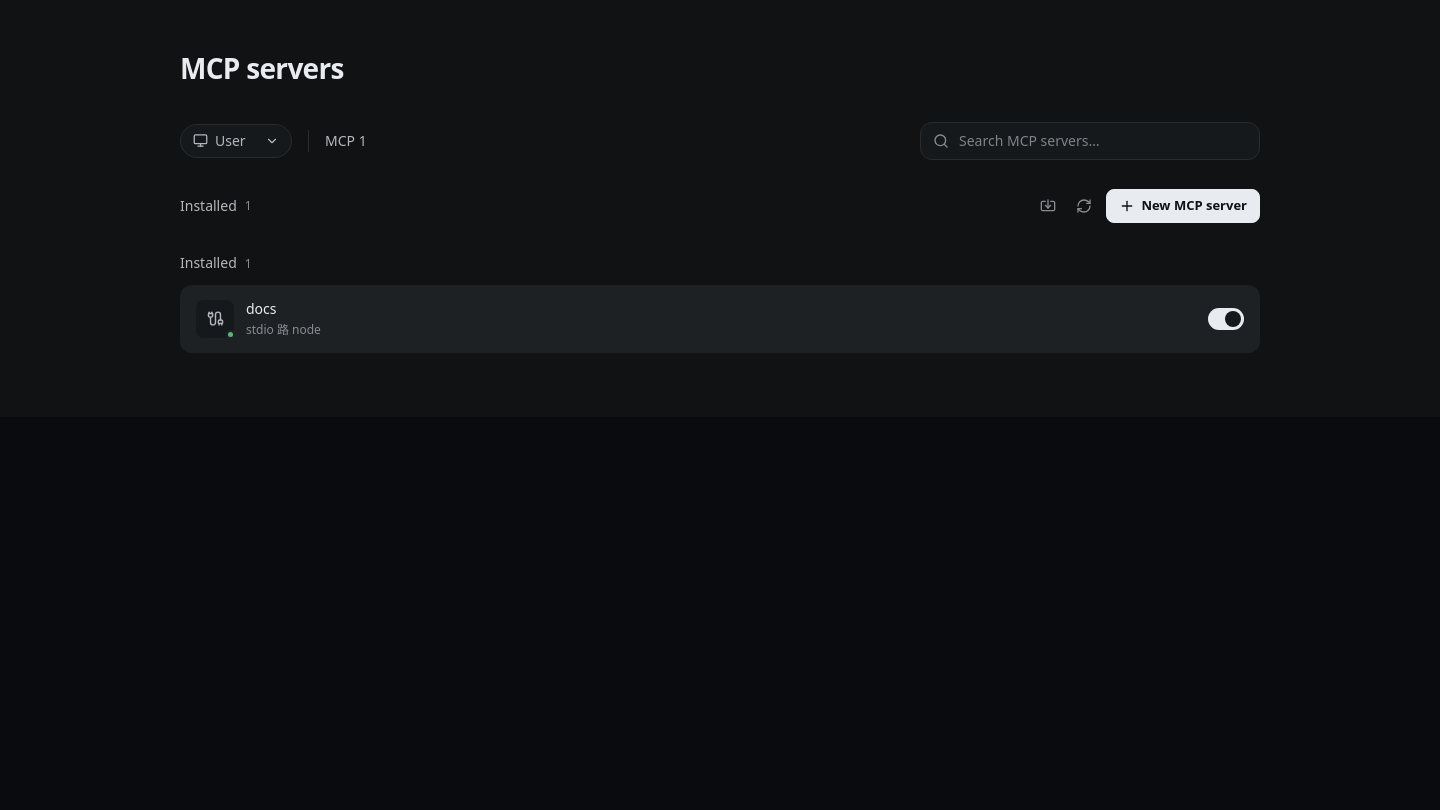
Test: McpManager › blocks invalid command arguments instead of saving the previous arguments
Click the button with class "mcp-server-main" at (215, 319), box [180,285,1208,353]
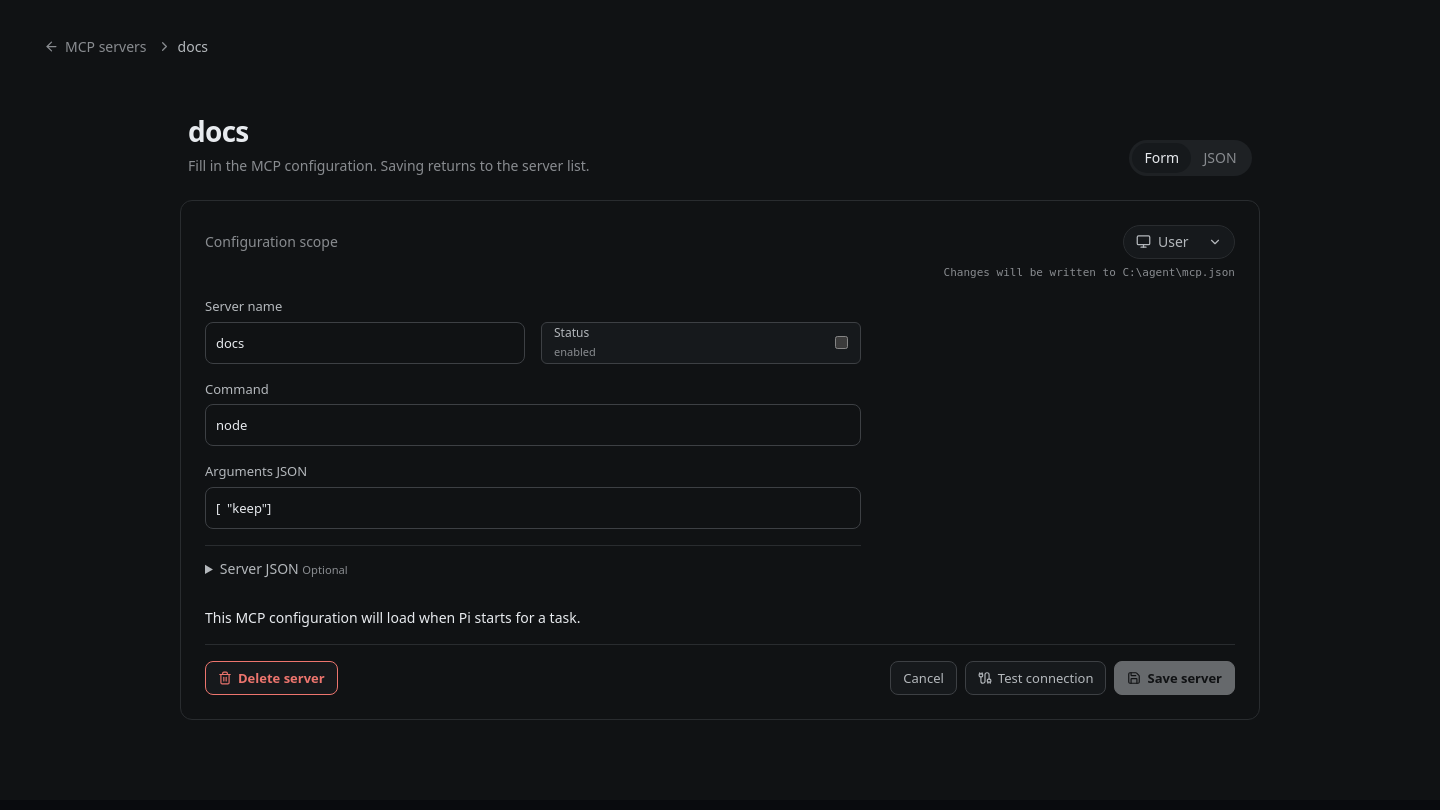
Replace the text in the field with placeholder "[" with "[\"unfinished\"" at (533, 508), box [205,487,861,529]
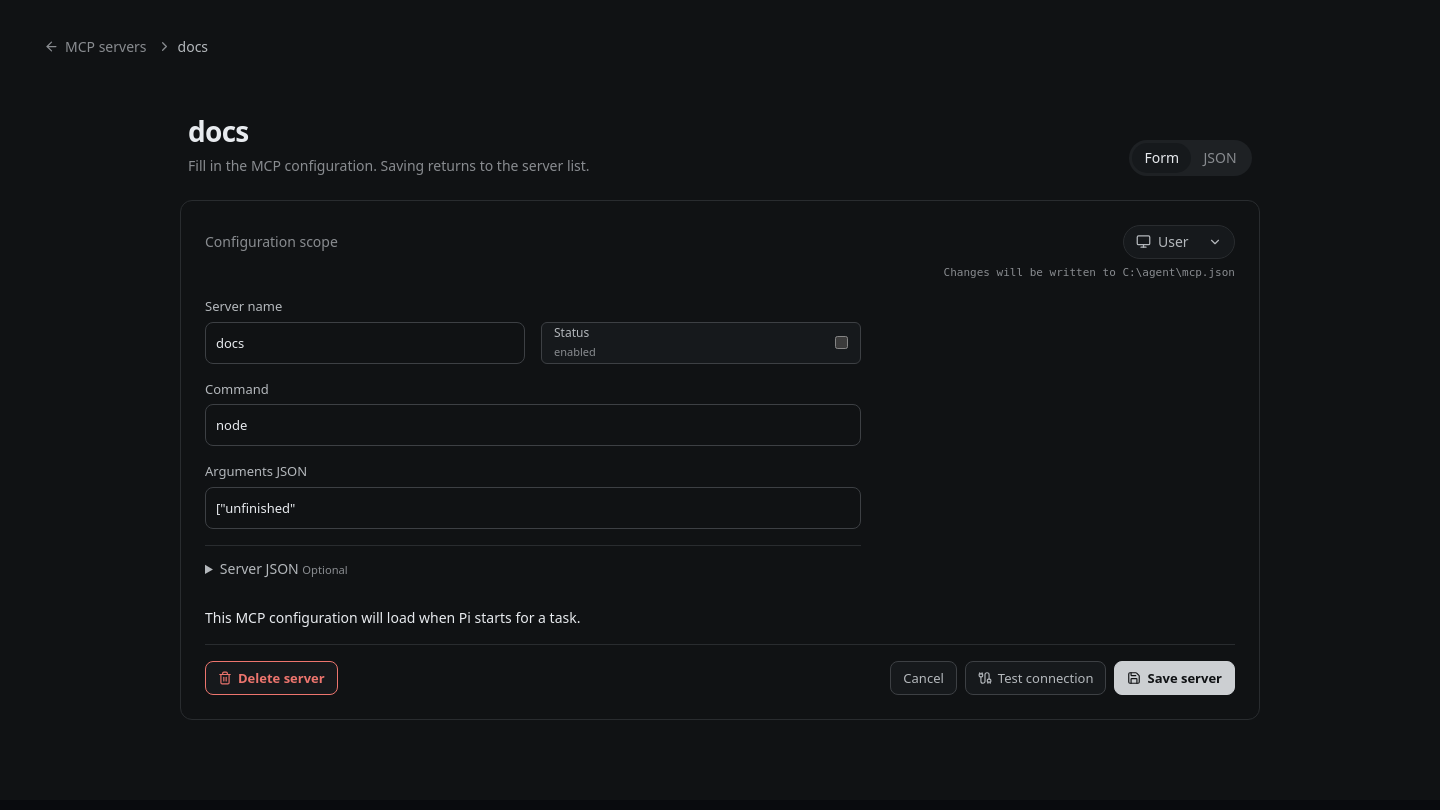
Submit the form with test id "mcp-editor", box [180,200,1260,720]
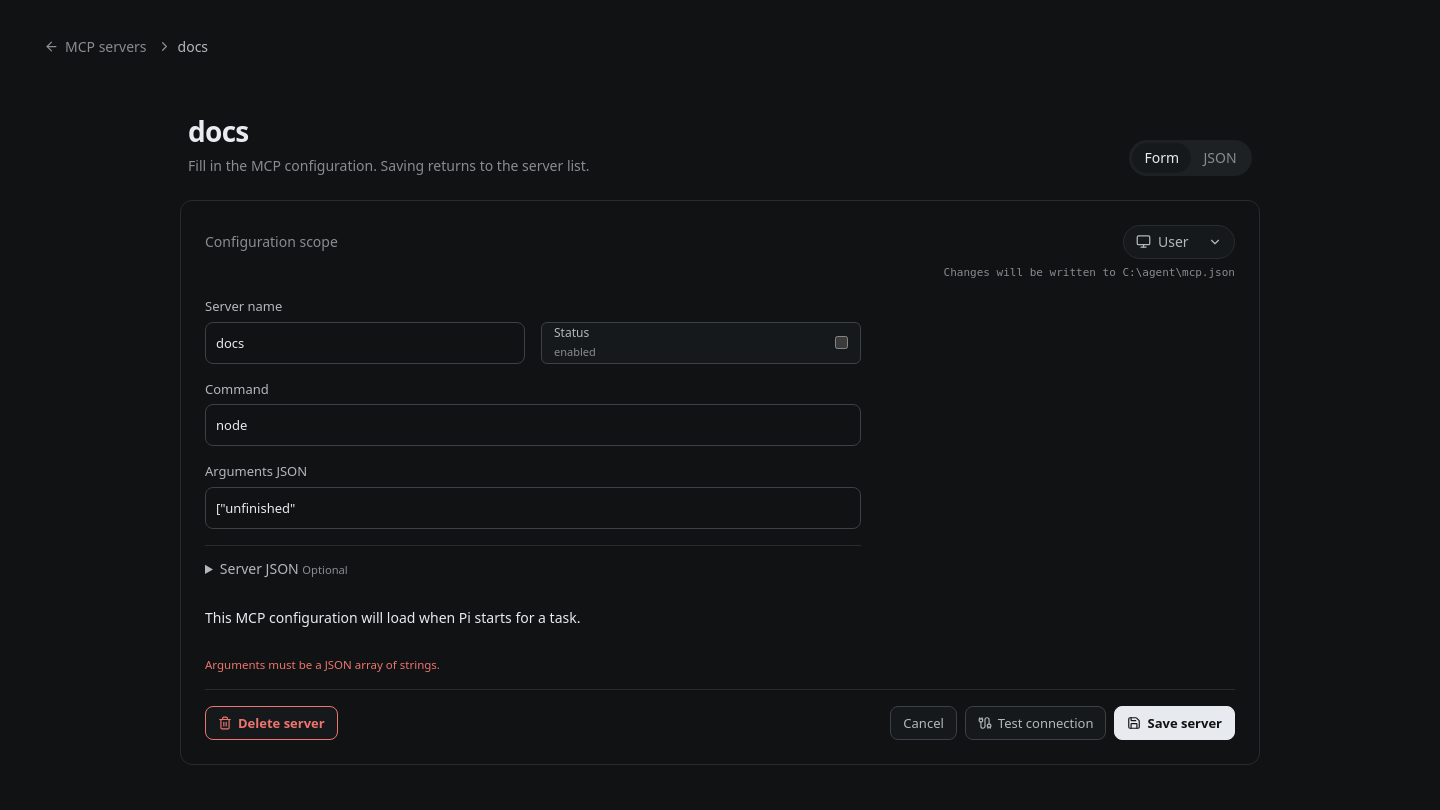
Expected: the message "Arguments must be a JSON array of strings." is shown, [205,657,440,672]
